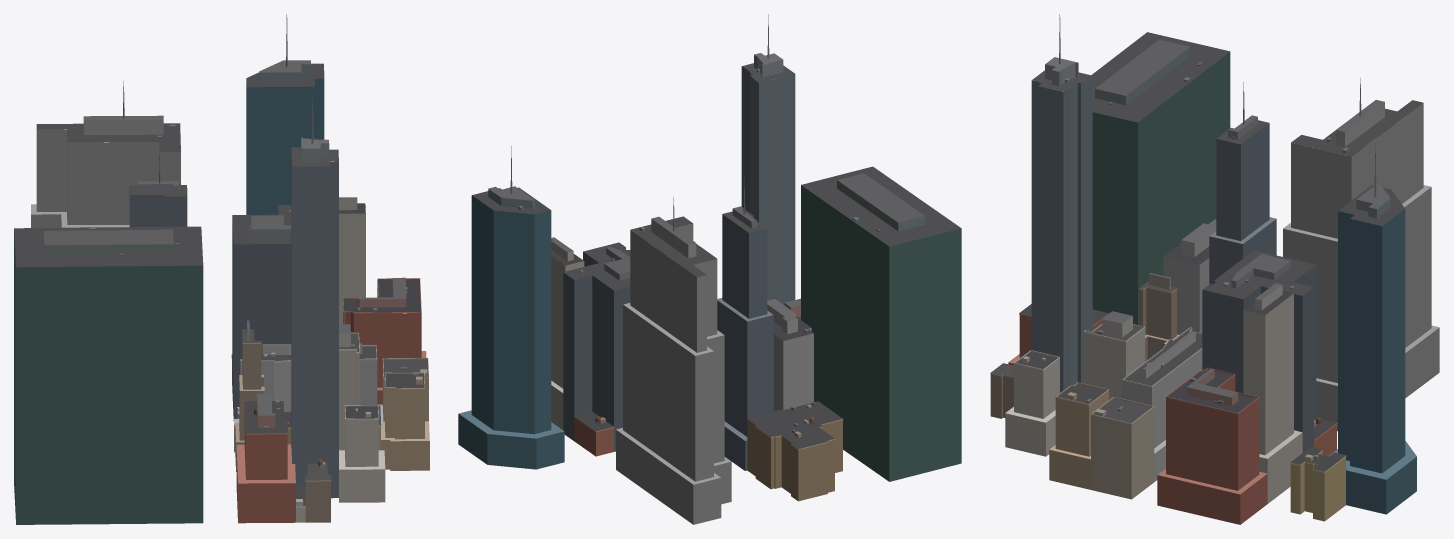
Rendered from 4_-1.bld.glb.
3 renders of one model, left to right at view 1: azimuth 30°, elevation 25°; view 2: azimuth 150°, elevation 25°; view 3: azimuth 270°, elevation 25°, orthographic. The views are drawn at different scales.
Parts seen in each view (by area): view 1: 4_-1; view 2: 4_-1; view 3: 4_-1.
Part boxes in pixels (x1,y1,x2,y2): 4_-1: [14, 14, 429, 524]; 4_-1: [458, 14, 961, 524]; 4_-1: [990, 14, 1439, 524].
Size of the model in its own units: 346 by 290 by 288.
